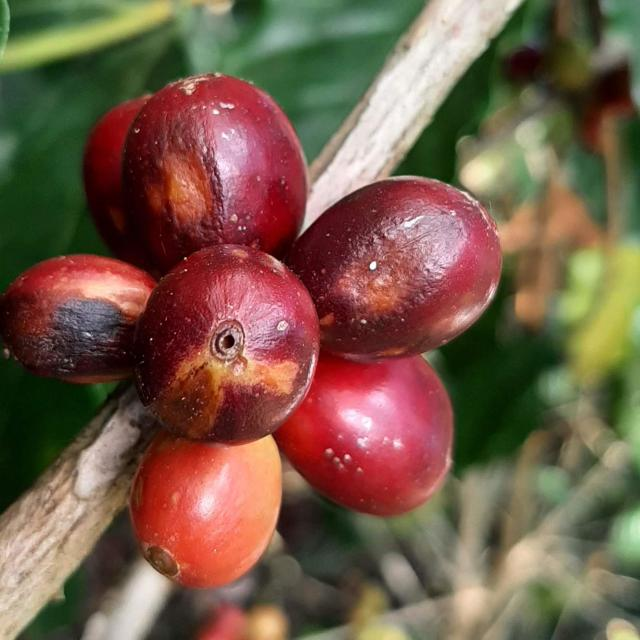red: (286, 177, 502, 363), (134, 245, 319, 444), (122, 73, 307, 270), (274, 354, 454, 517), (0, 255, 156, 384), (82, 94, 157, 274)
yellow: (129, 432, 282, 590)
